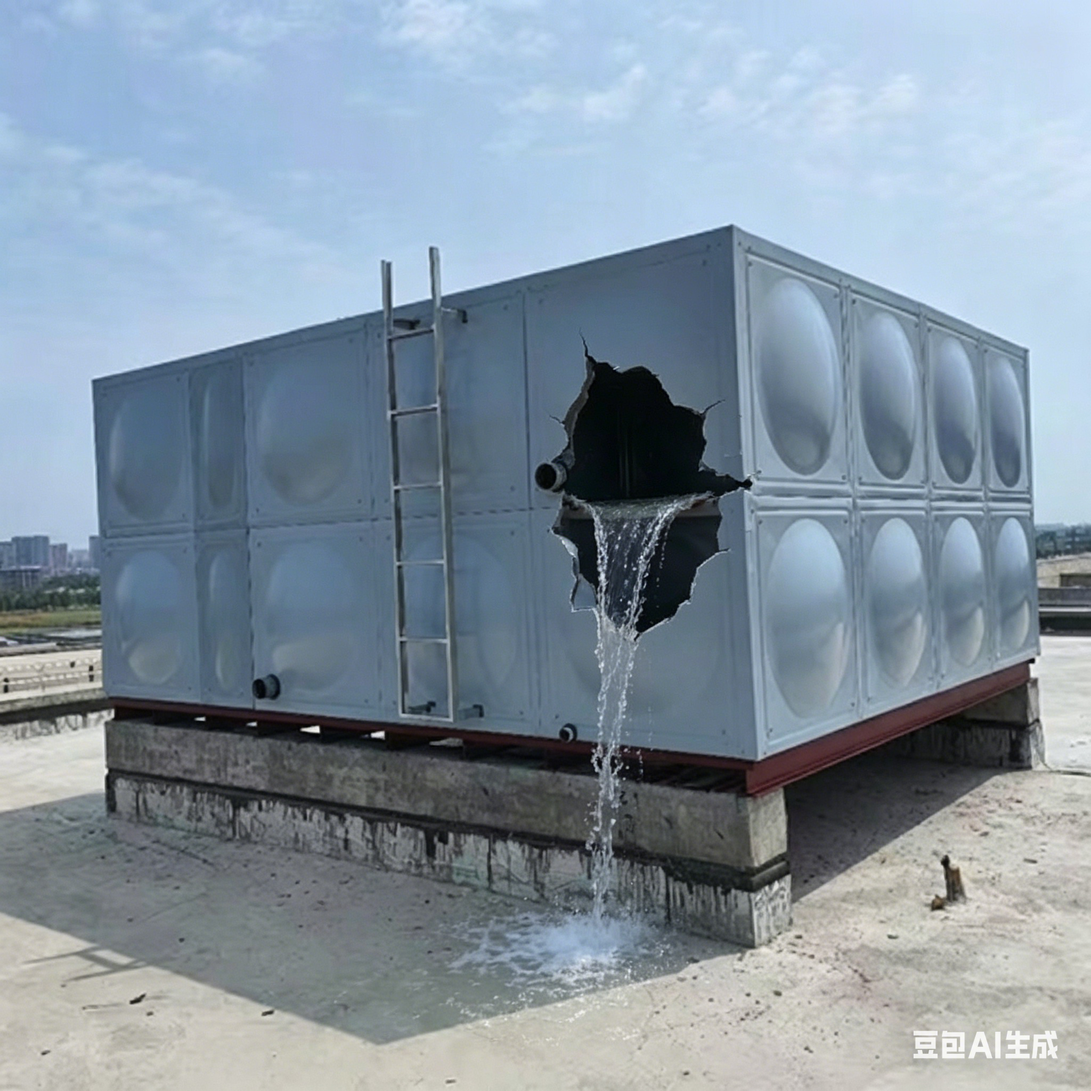Leakage: (550, 491, 692, 971), (471, 911, 550, 1015)
